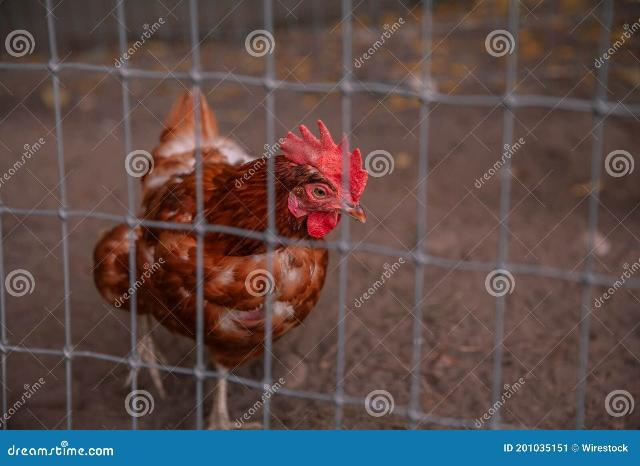Chicken: (94, 87, 367, 429)
